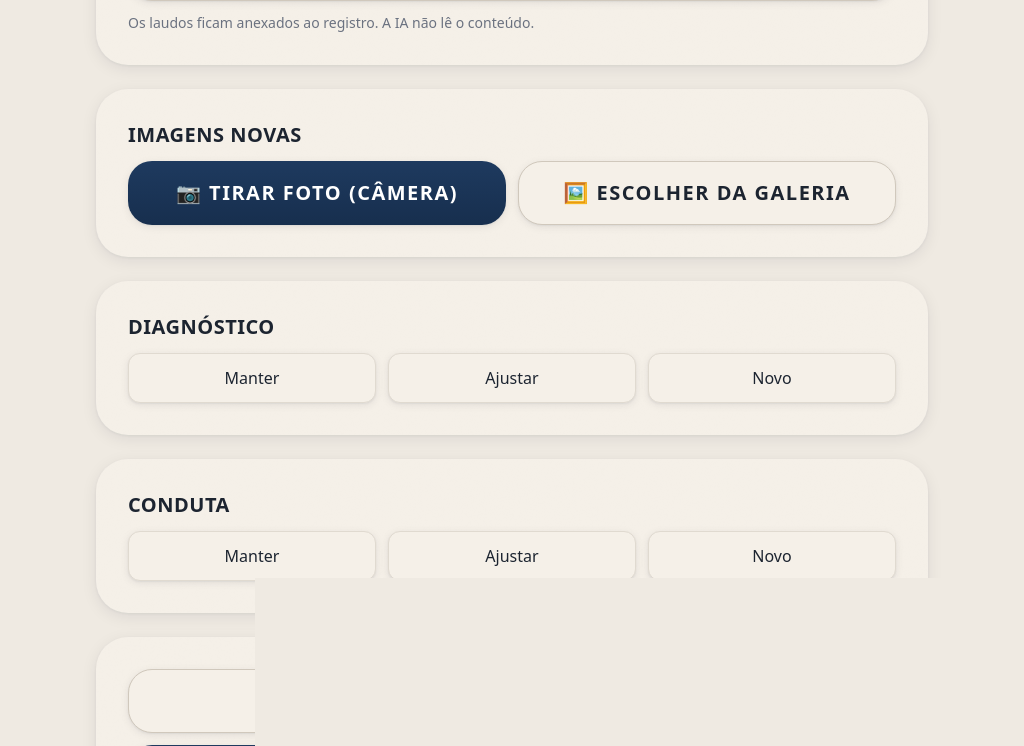
it: tela de Evolução › novo diagnóstico: gera pela mini anamnese quando o médico manda
(page scrolled)
Click the 1st radio button labelled "Novo".
click(772, 378)  # box [648,353,896,403]
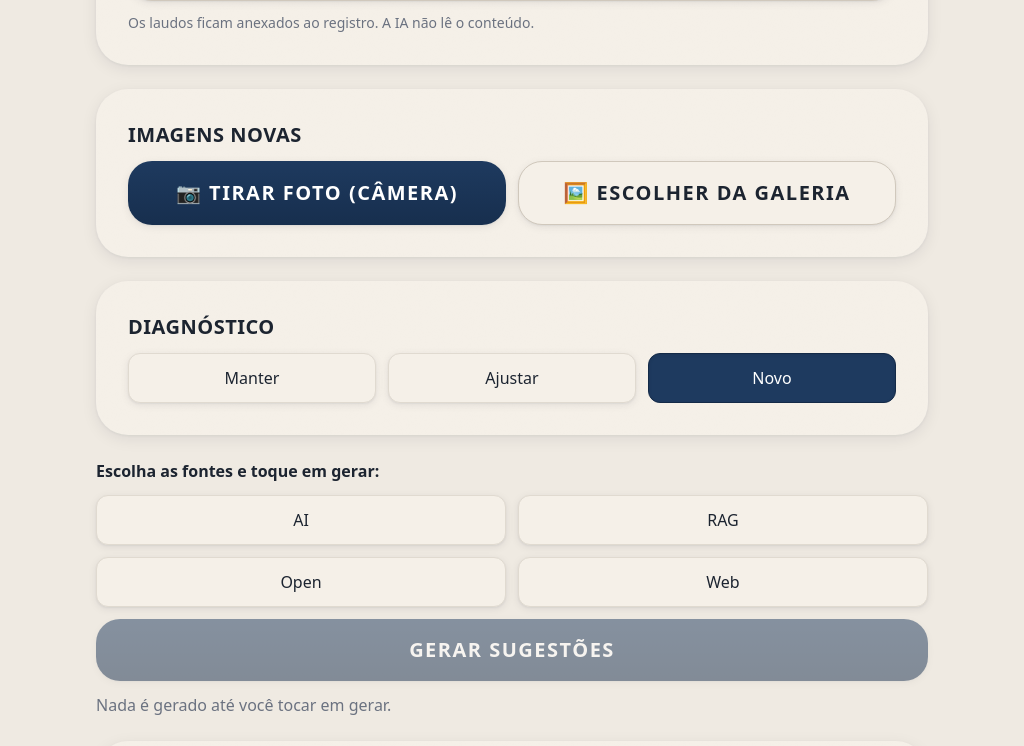
Click the checkbox labelled "AI".
click(301, 520)  # box [96,495,506,545]
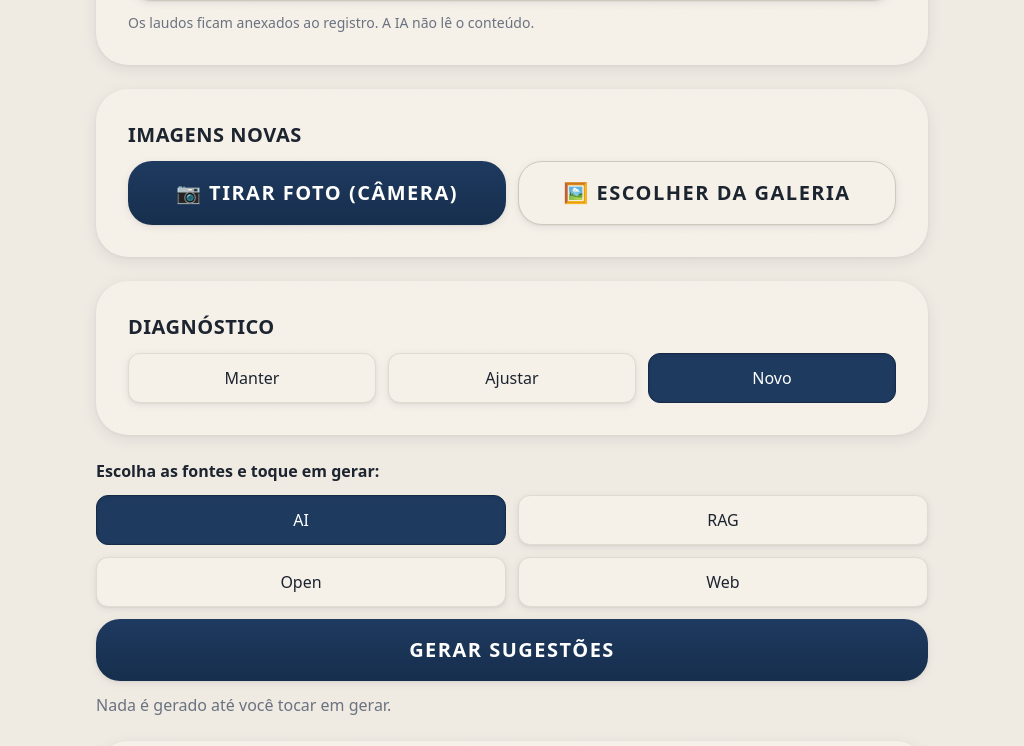
Click the button "GERAR SUGESTÕES".
click(512, 650)  # box [96,619,928,681]
(page scrolled)
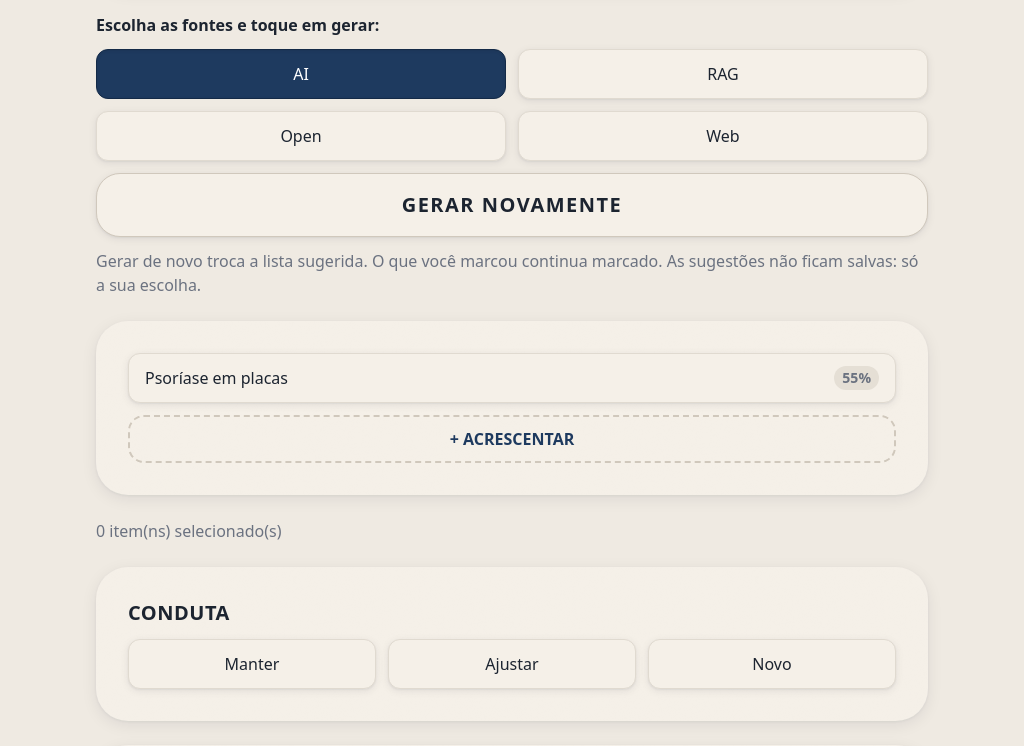
expect the text "Psoríase em placas" is shown: met, box [145,367,288,389]
